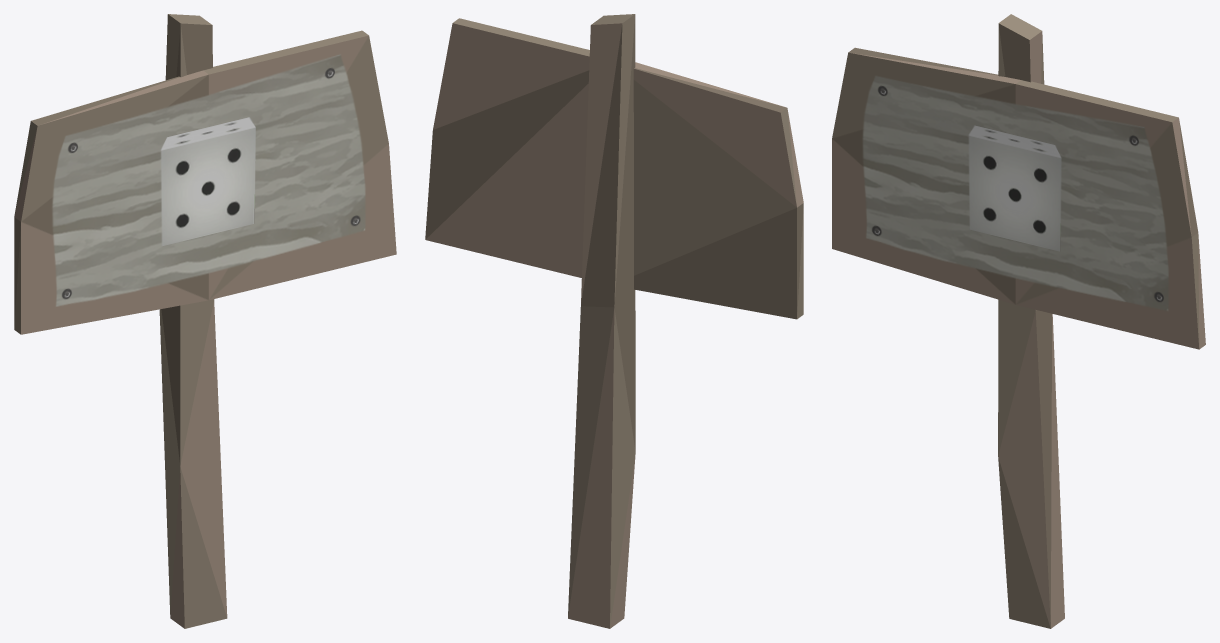
File: Cartel_dado.FBX
3 renders of one model, left to right at view 1: azimuth 30°, elevation 25°; view 2: azimuth 150°, elevation 25°; view 3: azimuth 330°, elevation 25°, orthographic. The views are drawn at different scales.
Parts seen in each view (by area): view 1: Poste; view 2: Poste; view 3: Poste.
Boxes of the visible parts, box(x1,y1,x2,y2) form: Poste: box(14, 14, 396, 628); Poste: box(425, 14, 803, 628); Poste: box(832, 14, 1205, 628).
Size of the model in its own units: 87.02 by 135 by 10.74.
1 material, 1 textured.
